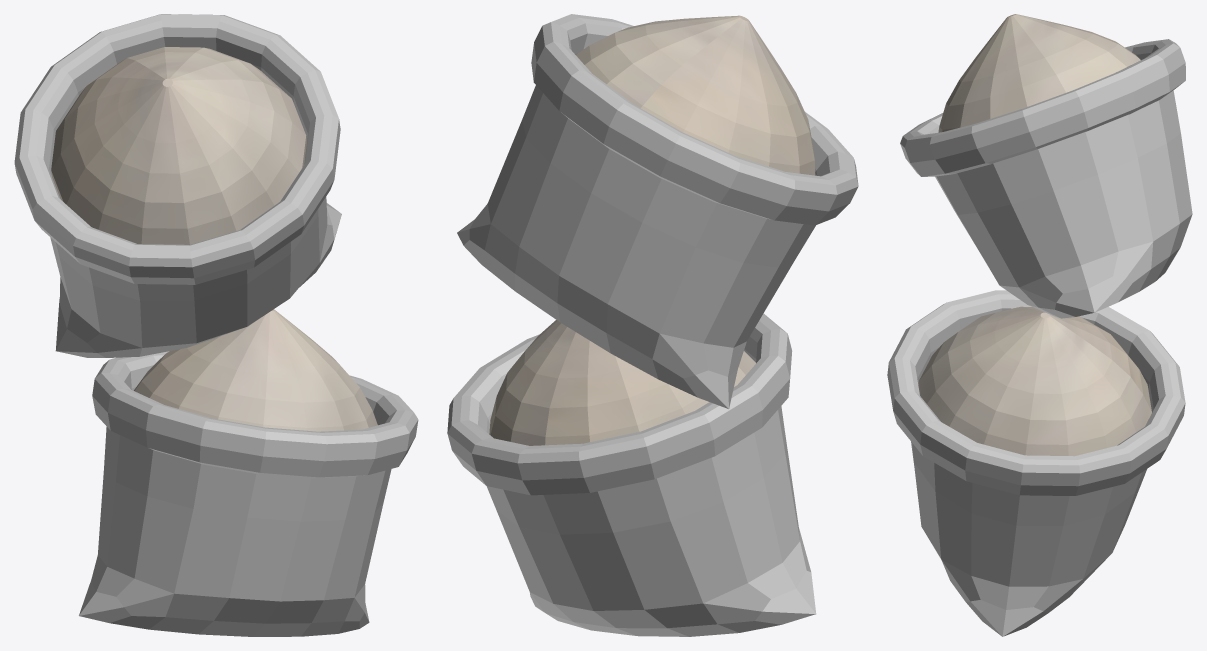
The model's file is flour2.fbx.
3 views of the same model, side by side, from view 1: azimuth 30°, elevation 25°; view 2: azimuth 150°, elevation 25°; view 3: azimuth 270°, elevation 25° (orthographic). The views are drawn at different scales.
Parts seen in each view (by area): view 1: Flour2; view 2: Flour2; view 3: Flour2.
Part boxes in pixels (<box>): Flour2: <box>14,14,418,636</box>; Flour2: <box>447,14,858,636</box>; Flour2: <box>887,14,1192,636</box>.
Bounding box in the file's own units: 13.26 × 21.13 × 10.91.
